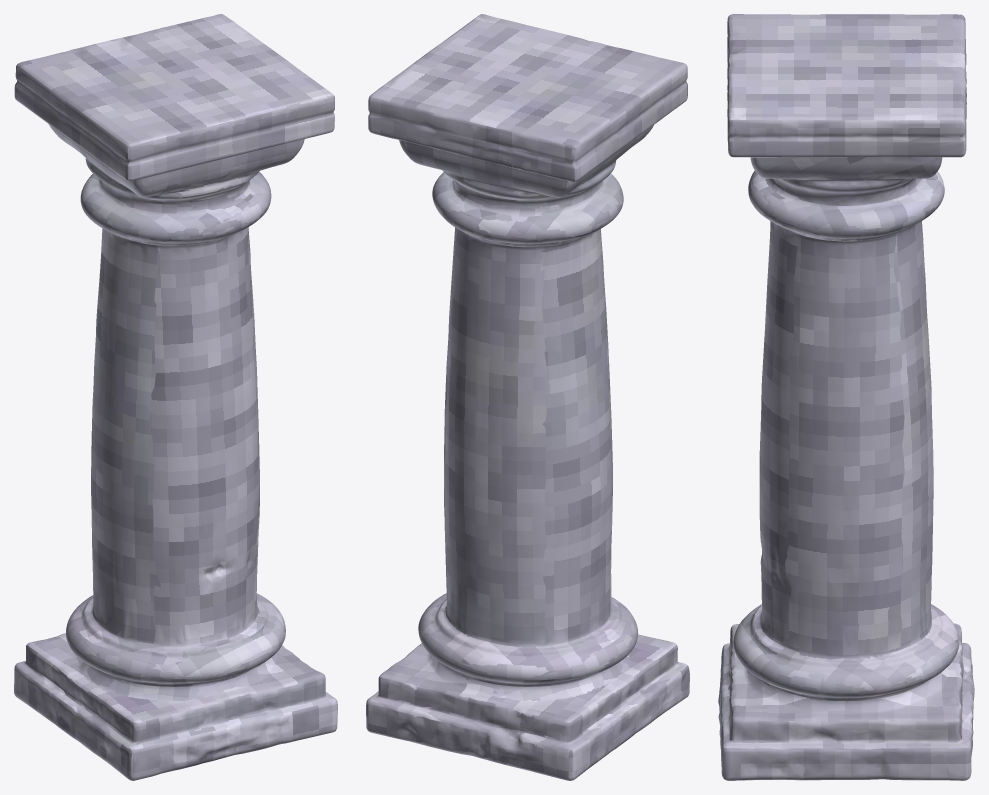
Rendered from weathered-monolith-pillar-generated-2026-04-18T22-01-36-007Z.medium.glb.
The picture shows the model from 3 angles, left to right: view 1: azimuth 30°, elevation 25°; view 2: azimuth 150°, elevation 25°; view 3: azimuth 270°, elevation 25°; orthographic projection. The views are drawn at different scales.
Visible parts, largest first — view 1: temp_mesh.ply; view 2: temp_mesh.ply; view 3: temp_mesh.ply.
Part boxes in pixels (<box>): temp_mesh.ply: <box>14,14,337,780</box>; temp_mesh.ply: <box>366,14,689,780</box>; temp_mesh.ply: <box>718,14,974,780</box>.
Bounding box in the file's own units: 0.6844 × 1.97 × 0.6911.
Materials: 1 (1 with a texture image).
